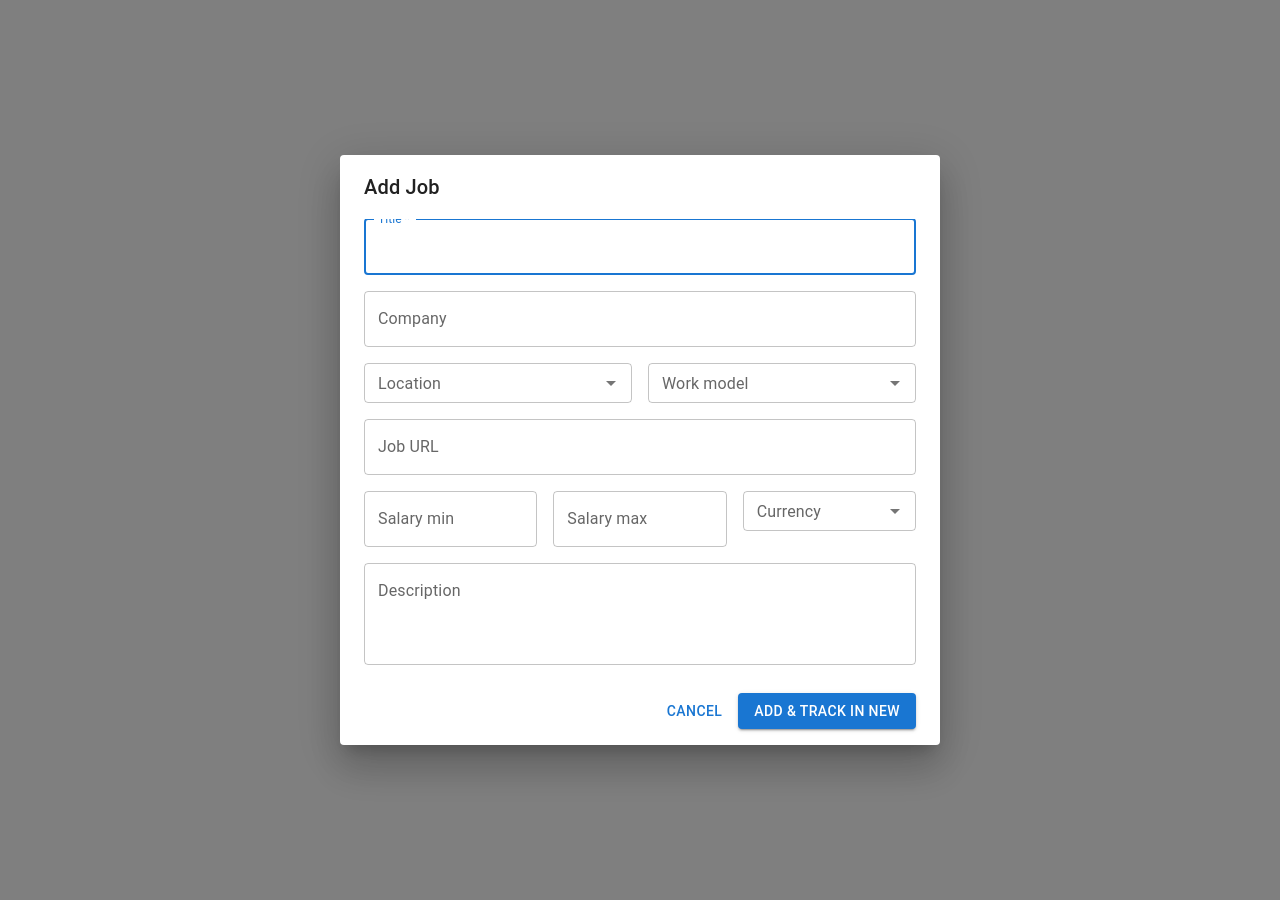
Add Job validation errors › still shows a non-field API error as the general error
The width and height of the screenshot is (1280, 900).
In the field labelled "Title *": {"x": 640, "y": 247} [364,219,916,275], type "Backend Engineer"
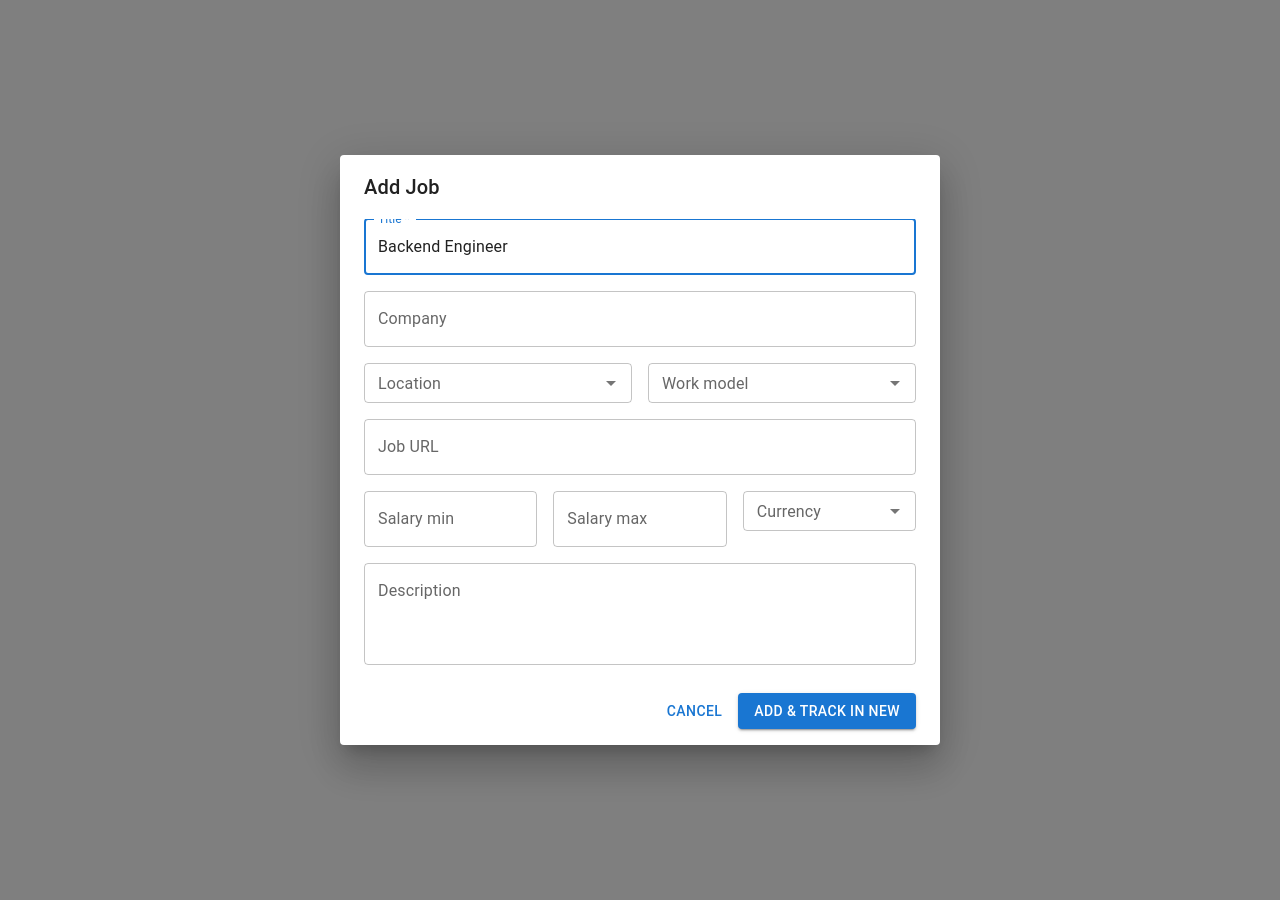
In the field labelled "Job URL": {"x": 640, "y": 447} [364,419,916,475], type "linkedin.com/jobs/123"
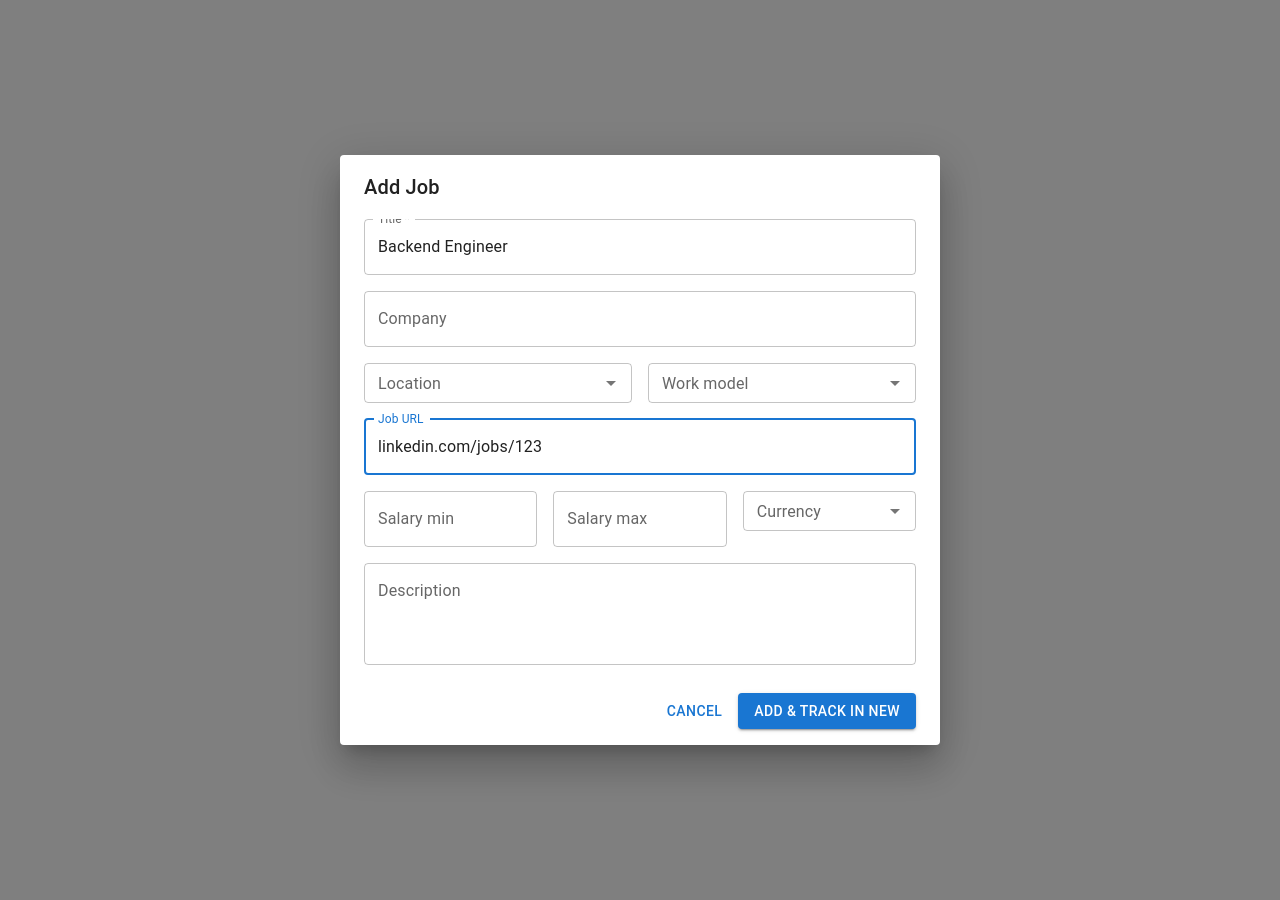
Click the button "Add & track in New": {"x": 827, "y": 711} [738,693,916,729]
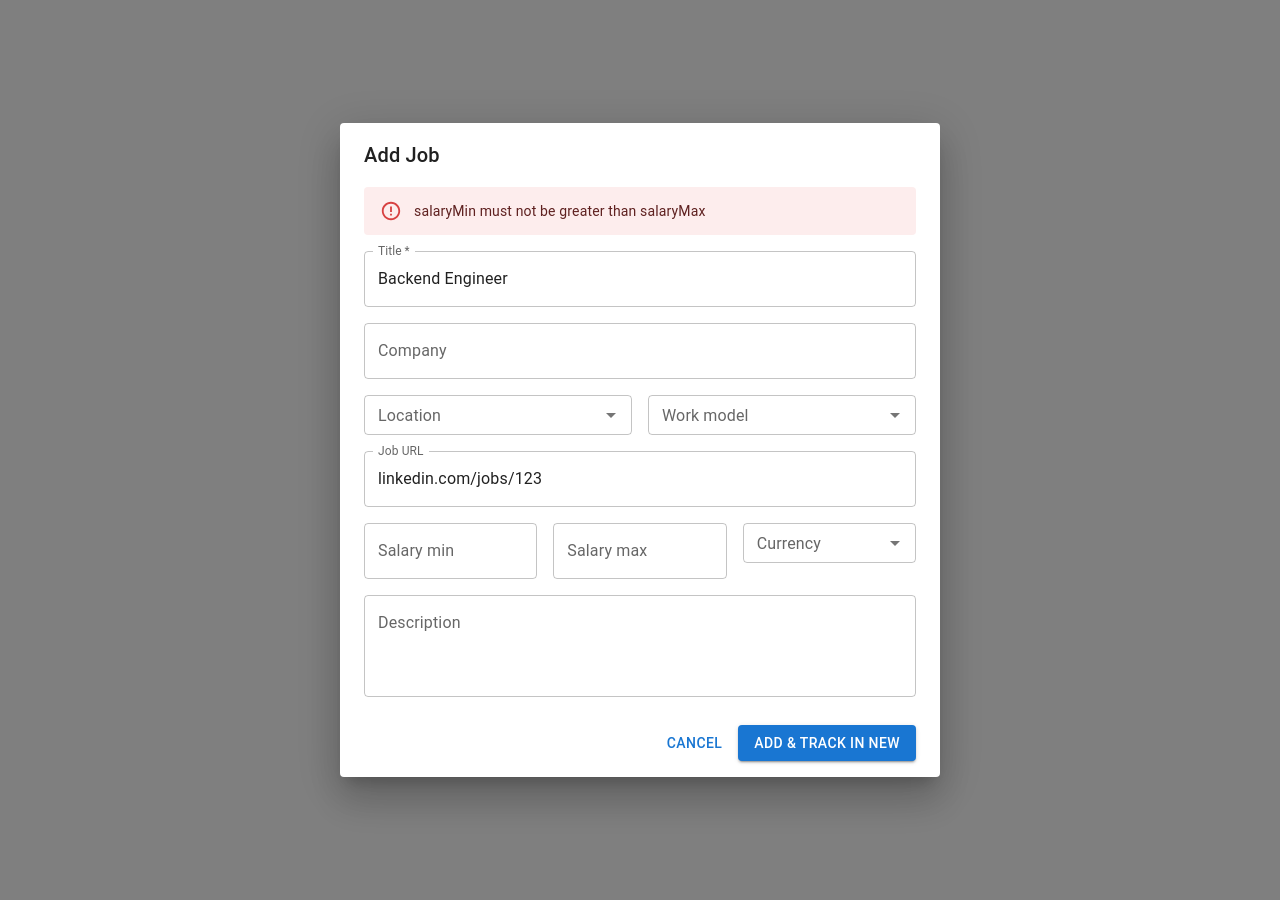
Expected: the message reads "salaryMin must not be greater than salaryMax", [414,203,706,219]
